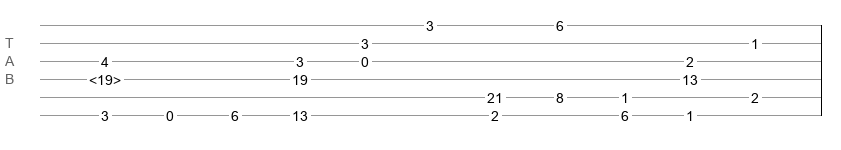0: (166, 108, 174, 118), (361, 54, 369, 64)
1: (621, 90, 629, 100), (686, 108, 694, 118), (751, 36, 759, 46)
13: (292, 108, 308, 118), (682, 72, 698, 82)
19: (292, 72, 308, 82)
2: (491, 108, 499, 118), (686, 54, 694, 64), (751, 90, 759, 100)
21: (487, 90, 503, 100)
3: (101, 108, 109, 118), (296, 54, 304, 64), (361, 36, 369, 46), (426, 18, 434, 28)
4: (101, 54, 109, 64)
6: (231, 108, 239, 118), (556, 18, 564, 28), (621, 108, 629, 118)
8: (556, 90, 564, 100)
harmonic: (89, 72, 121, 82)
